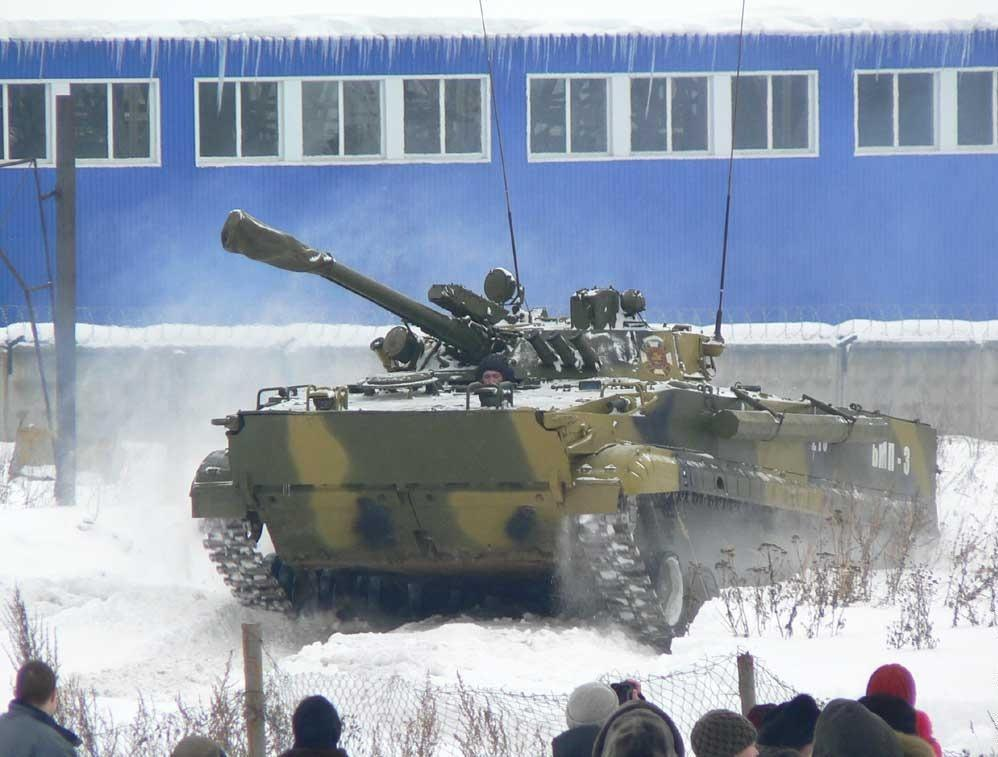MIL_IFV: (178, 201, 942, 648)
